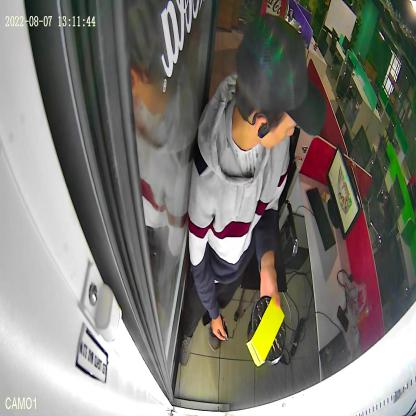yellow: (246, 295, 286, 368)
